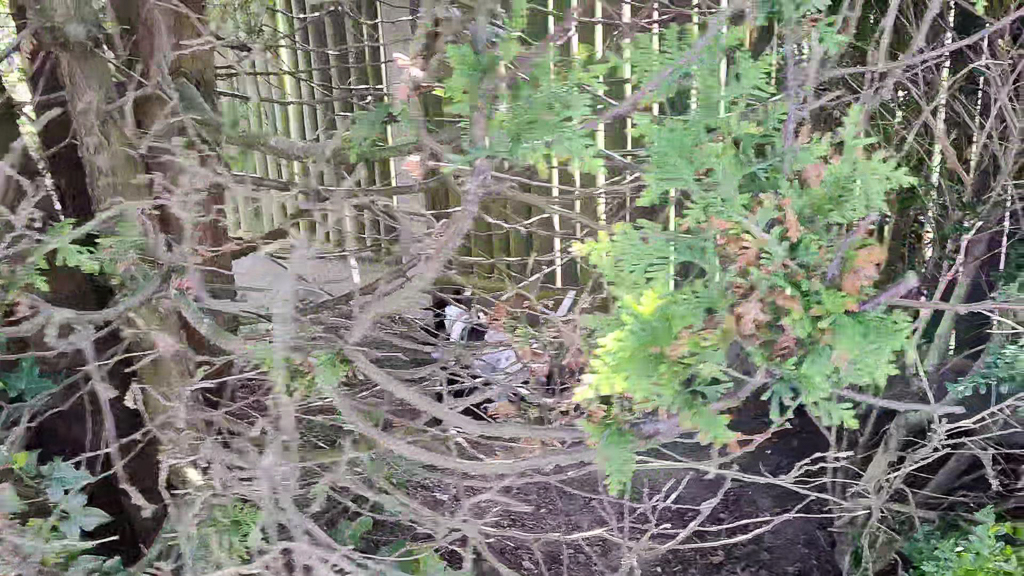Dog: (414, 274, 518, 449)
